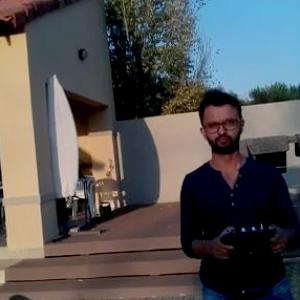follow: (174, 87, 300, 299)
